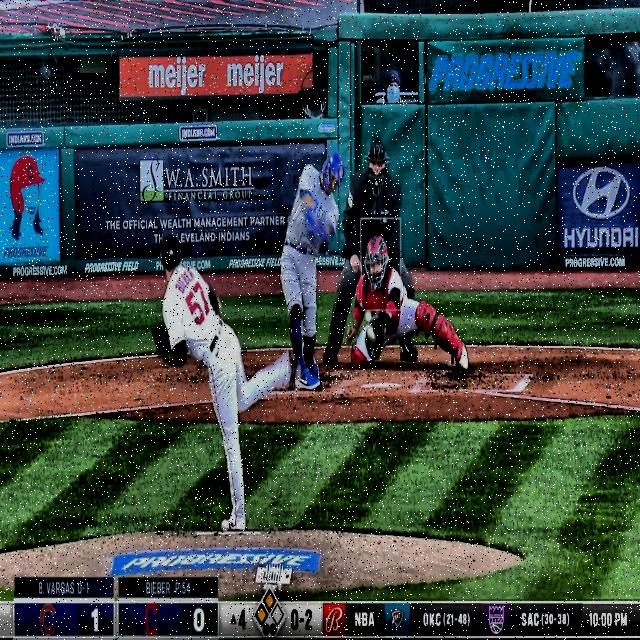baseball: (365, 324, 378, 347)
